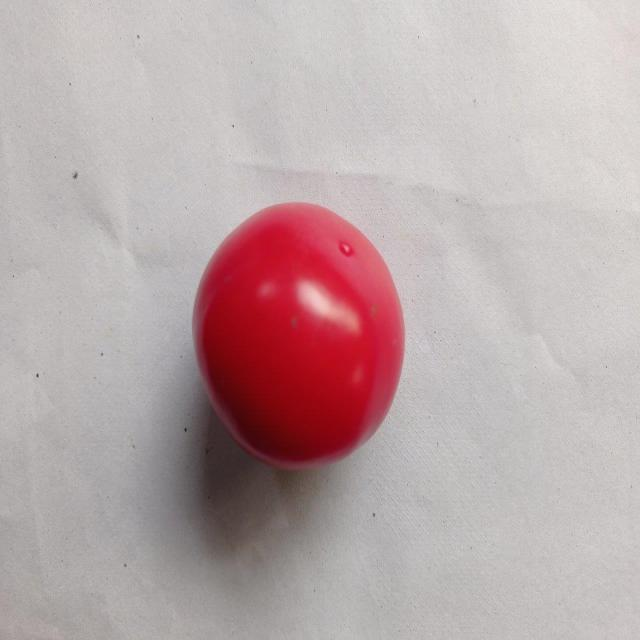Tomato: (190, 196, 408, 474)
